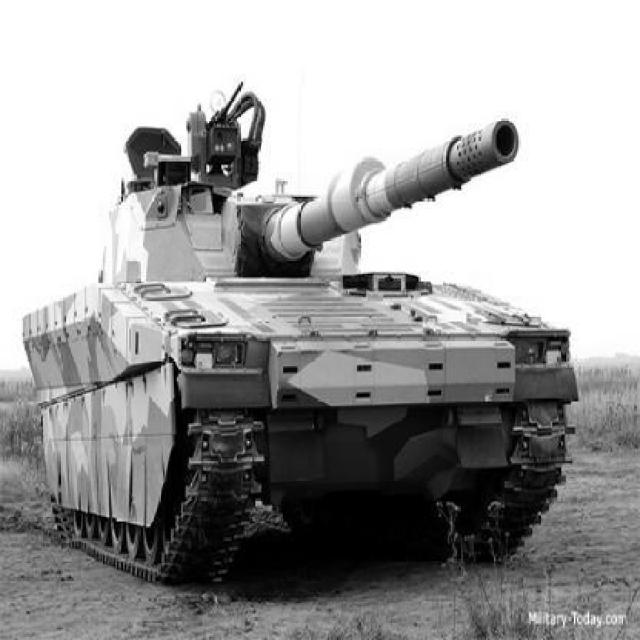Tank: (21, 78, 581, 586)
